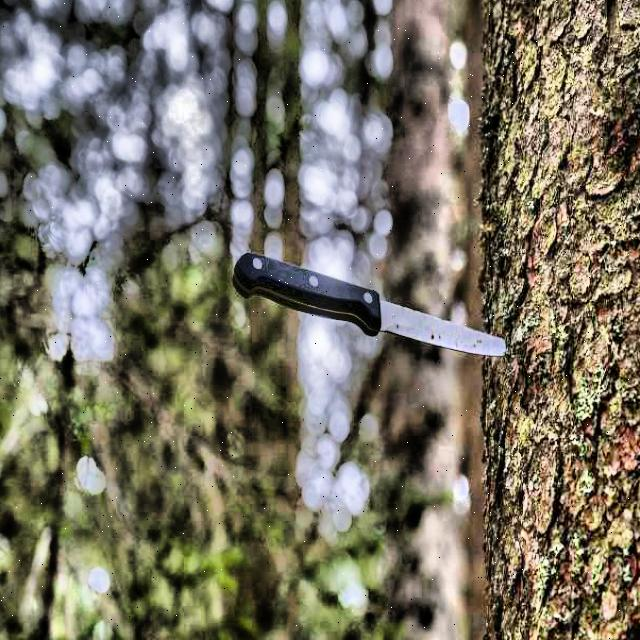knife: (233, 240, 507, 370)
